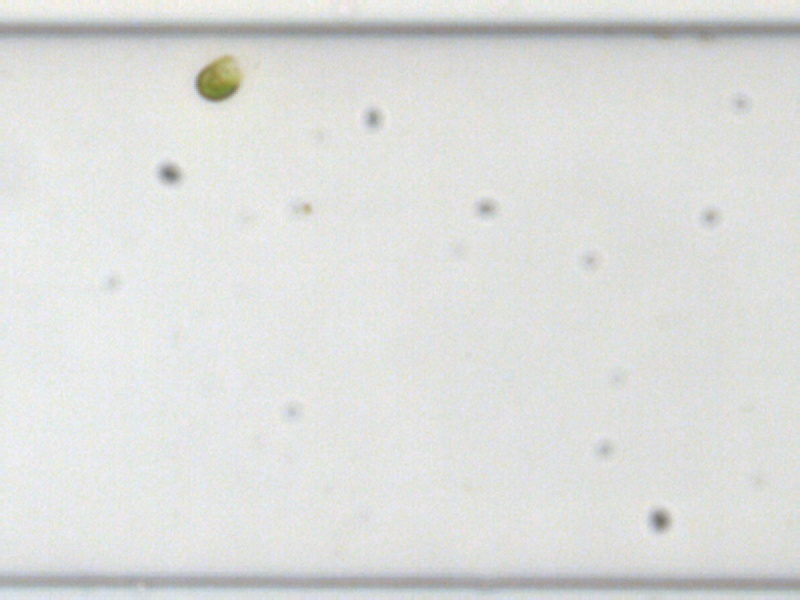Chlorella: (300, 200, 314, 213)
Platymonas: (193, 53, 241, 103)
